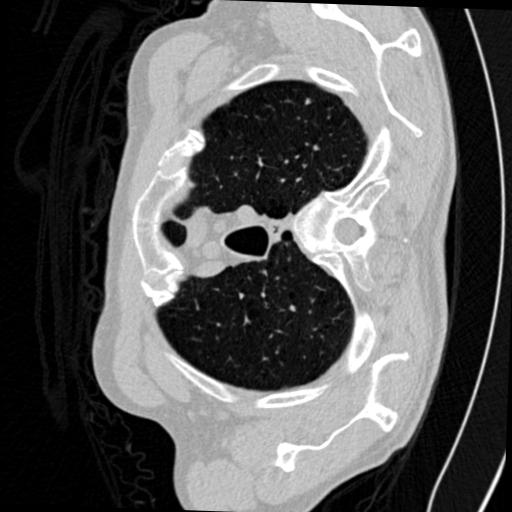nodule: (303, 96, 315, 108)
